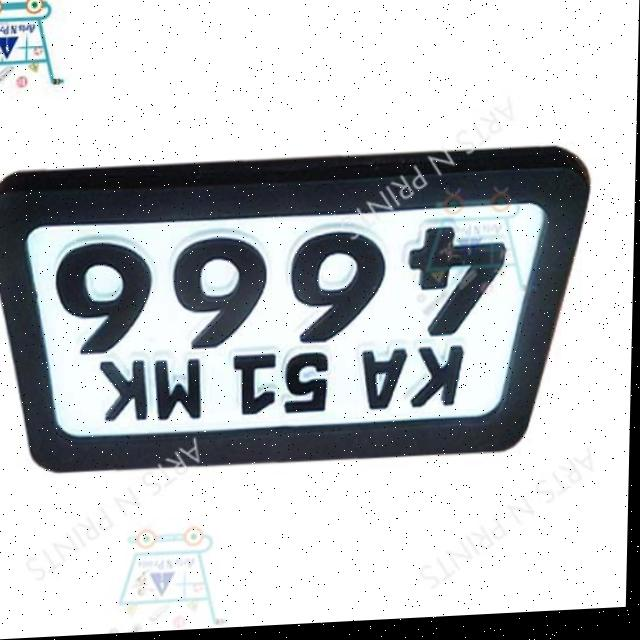plate: (0, 143, 597, 478)
